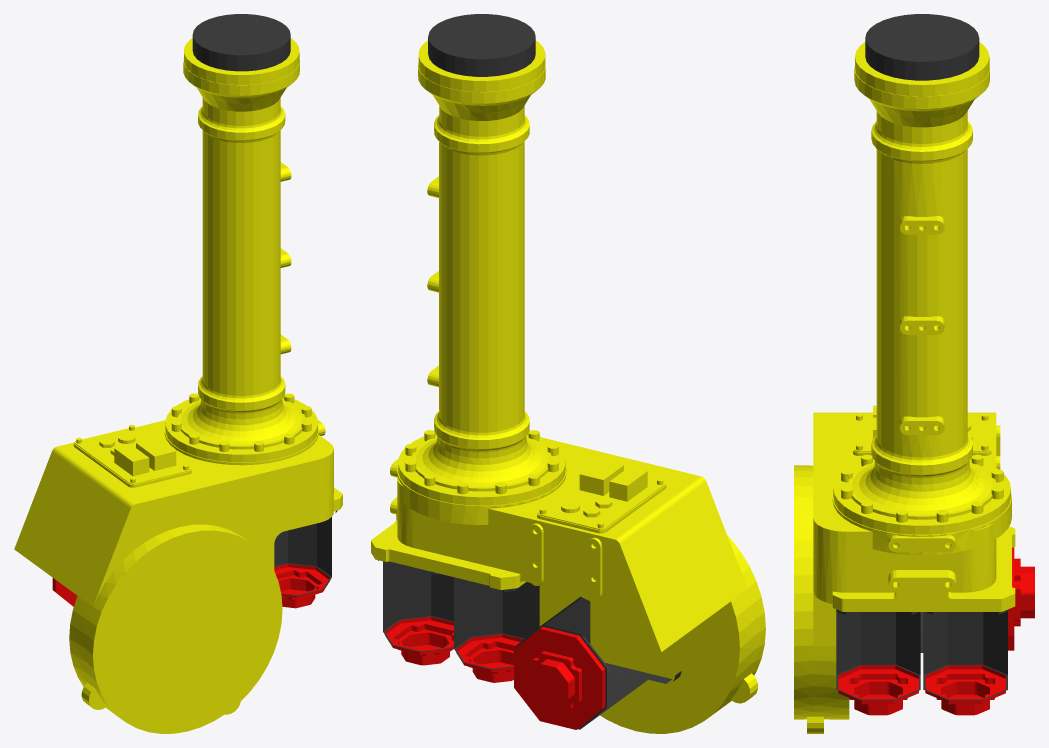
The picture shows the model from 3 angles, left to right: view 1: azimuth 30°, elevation 25°; view 2: azimuth 150°, elevation 25°; view 3: azimuth 270°, elevation 25°; orthographic projection. The views are drawn at different scales.
Visible parts, largest first — view 1: node; view 2: node; view 3: node.
Part boxes in pixels (x1,y1,x2,y2): node: [14, 14, 342, 733]; node: [371, 14, 765, 733]; node: [794, 14, 1034, 733].
Size of the model in its own units: 564 by 1241 by 370.
